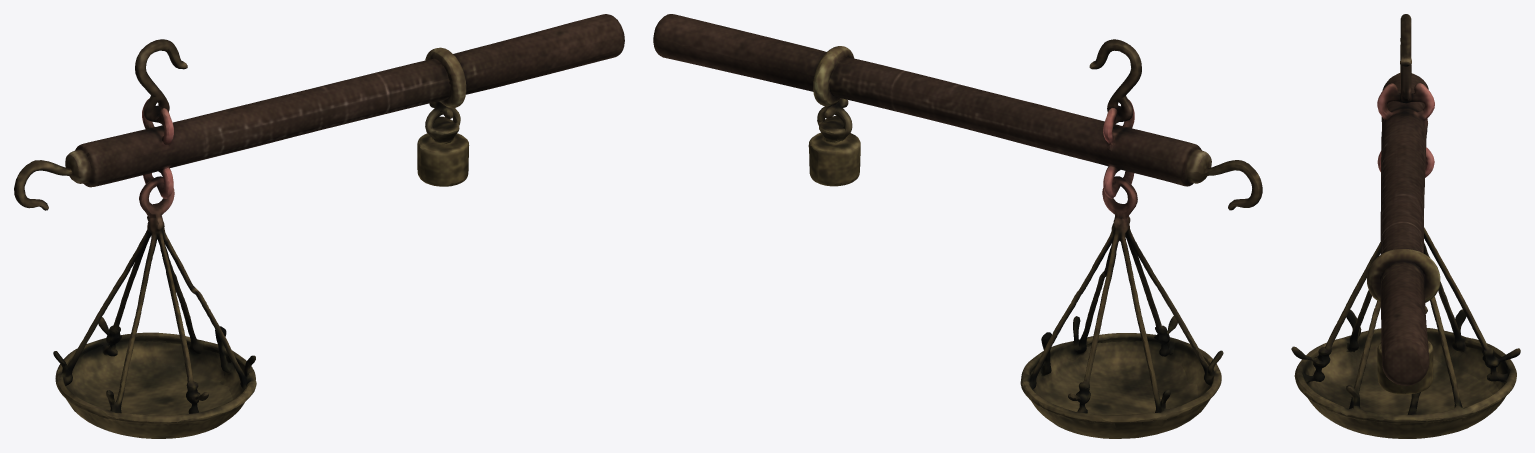
File: dengzi-scale.glb
3 views of the same model, side by side, from view 1: azimuth 30°, elevation 25°; view 2: azimuth 150°, elevation 25°; view 3: azimuth 270°, elevation 25° (orthographic). The views are drawn at different scales.
Parts seen in each view (by area): view 1: world; view 2: world; view 3: world.
Boxes of the visible parts, x1,y1,x2,y2 form: world: [14, 14, 624, 438]; world: [653, 14, 1262, 438]; world: [1291, 14, 1520, 438].
Size of the model in its own units: 0.35 by 0.2091 by 0.1085.
Materials: 1 (1 with a texture image).
